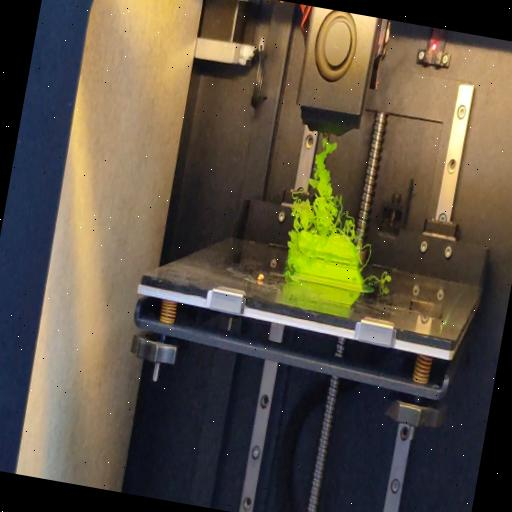spaghetti: (288, 134, 374, 244), (279, 231, 300, 282), (359, 240, 374, 272), (367, 269, 392, 287)
